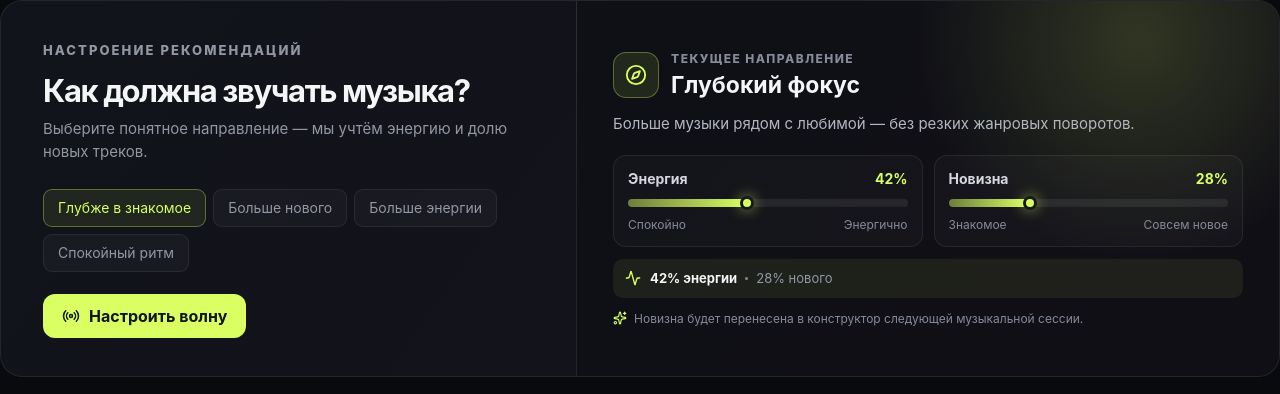
Scenario: MoodMap › switches to a custom direction when a slider is adjusted
Set the slider named "Энергия" to "76" at {"x": 836, "y": 202}, box left=628, top=188, right=908, bottom=216
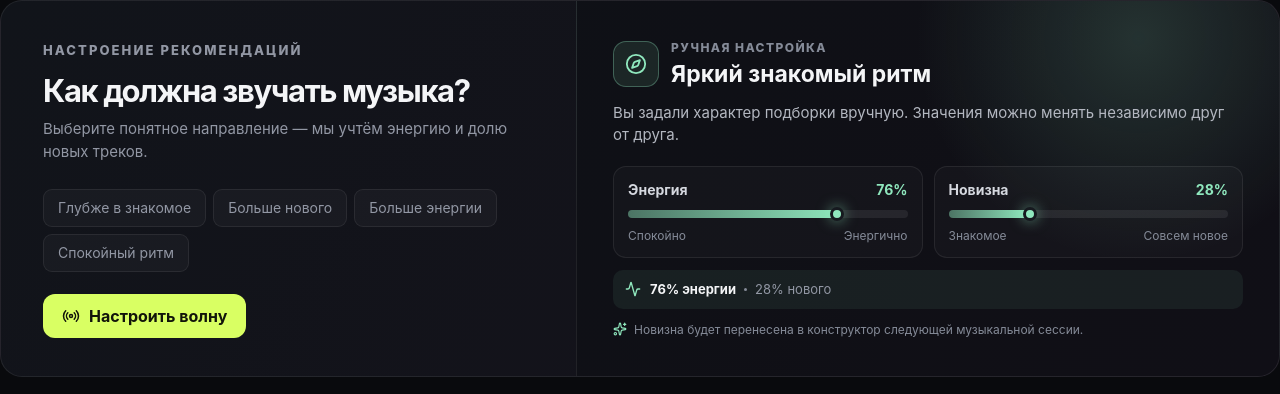
Result: the text "РУЧНАЯ НАСТРОЙКА" is shown at left=671, top=40, right=827, bottom=55
Result: the text "Яркий знакомый ритм" is shown at left=671, top=60, right=931, bottom=88
Result: the text "76% энергии" is shown at left=650, top=281, right=736, bottom=297
